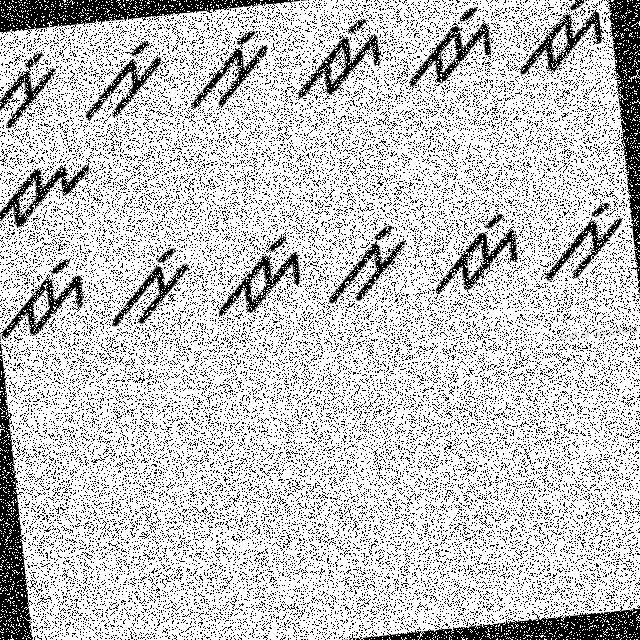jang: (284, 7, 393, 112), (399, 0, 502, 92), (208, 228, 306, 322), (424, 206, 525, 295), (512, 0, 614, 86), (0, 257, 91, 349)
nja: (0, 155, 101, 237)
wang: (96, 230, 198, 339), (74, 22, 172, 130), (320, 217, 413, 317), (180, 22, 278, 114), (534, 194, 632, 285), (0, 36, 66, 142)
